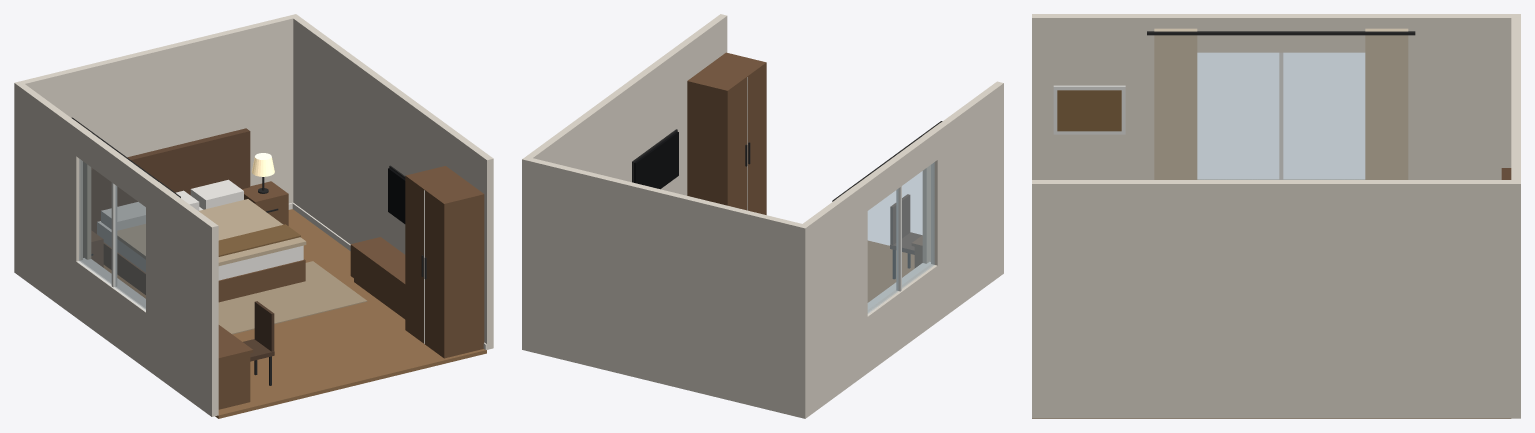
The model's file is room-10.glb.
The picture shows the model from 3 angles, left to right: view 1: azimuth 30°, elevation 25°; view 2: azimuth 150°, elevation 25°; view 3: azimuth 270°, elevation 25°; orthographic projection. The views are drawn at different scales.
Visible parts, largest first — view 1: wall, wood, floor, glass, headboard, rug, linen, blanket, window_frame, runner, chair, curtain (+4 smaller); view 2: wall, wood, glass, screen, floor, window_frame, chair, curtain, metal; view 3: wall, glass, curtain, runner, window_frame, metal, floor.
Boxes of the visible parts, x1=… form: wall: x1=14, y1=14, x2=493, y2=416; wood: x1=91, y1=166, x2=484, y2=409; floor: x1=103, y1=209, x2=486, y2=418; glass: x1=79, y1=159, x2=145, y2=309; headboard: x1=91, y1=128, x2=250, y2=233; rug: x1=218, y1=261, x2=367, y2=334; linen: x1=97, y1=179, x2=303, y2=280; blanket: x1=117, y1=199, x2=306, y2=265; window_frame: x1=77, y1=182, x2=145, y2=311; runner: x1=218, y1=224, x2=300, y2=256; chair: x1=243, y1=301, x2=274, y2=361; curtain: x1=77, y1=122, x2=175, y2=259; wall: x1=522, y1=14, x2=1003, y2=418; wood: x1=687, y1=52, x2=922, y2=267; glass: x1=867, y1=162, x2=934, y2=313; screen: x1=634, y1=131, x2=678, y2=189; floor: x1=867, y1=240, x2=914, y2=302; window_frame: x1=867, y1=186, x2=930, y2=315; chair: x1=890, y1=194, x2=921, y2=254; curtain: x1=837, y1=123, x2=939, y2=263; metal: x1=632, y1=121, x2=942, y2=279; wall: x1=1032, y1=14, x2=1520, y2=418; glass: x1=1197, y1=52, x2=1365, y2=179; curtain: x1=1154, y1=28, x2=1408, y2=179; runner: x1=1057, y1=90, x2=1121, y2=131; window_frame: x1=1053, y1=52, x2=1283, y2=179; metal: x1=1147, y1=31, x2=1415, y2=35; floor: x1=1032, y1=418, x2=1510, y2=418.
Bounding box in the file's own units: 4.2 × 2.75 × 5.1.
